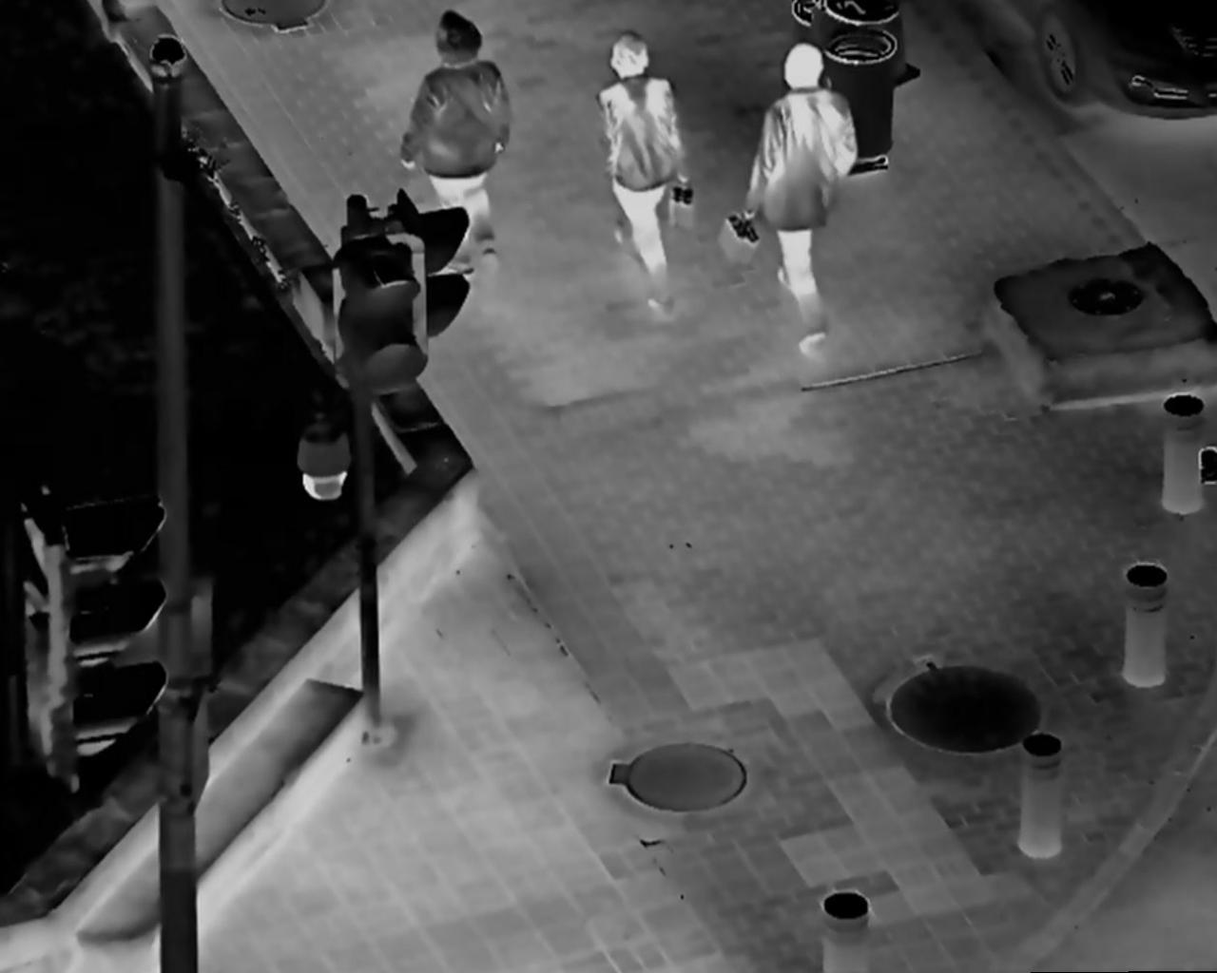person: (734, 42, 860, 360), (586, 26, 700, 315), (405, 11, 512, 277)
